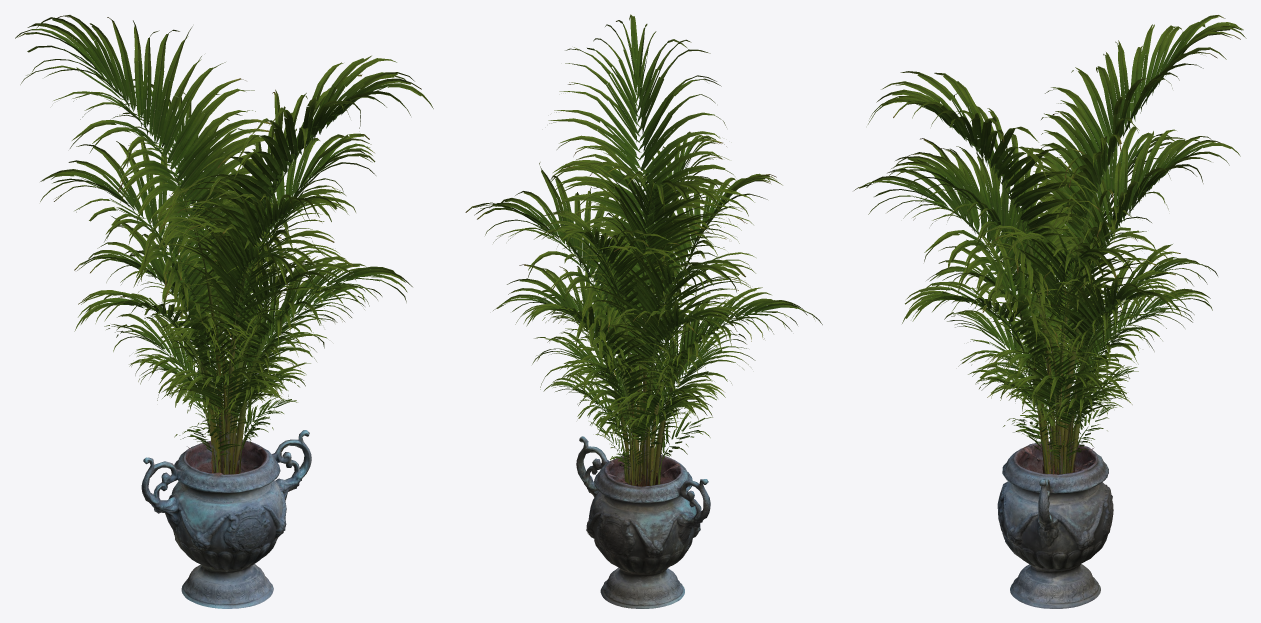
File: palm.glb
3 renders of one model, left to right at view 1: azimuth 30°, elevation 25°; view 2: azimuth 150°, elevation 25°; view 3: azimuth 270°, elevation 25°, orthographic. The views are drawn at different scales.
Parts seen in each view (by area): view 1: palm, palm-b, planter; view 2: palm, palm-b, planter; view 3: palm, palm-b, planter.
Boxes of the visible parts, left/top/right/bottom form: palm: left=15, top=15, right=433, bottom=474; palm-b: left=74, top=79, right=382, bottom=473; planter: left=141, top=430, right=311, bottom=608; palm: left=465, top=14, right=822, bottom=486; palm-b: left=493, top=131, right=756, bottom=486; planter: left=576, top=436, right=710, bottom=608; palm: left=854, top=15, right=1246, bottom=474; palm-b: left=886, top=129, right=1240, bottom=474; planter: left=997, top=413, right=1113, bottom=608.
Bounding box in the file's own units: 1.23 × 1.85 × 1.24.
2 materials, 2 textured.
